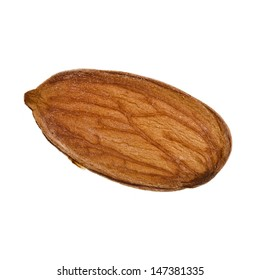almond: (25, 68, 232, 192)
